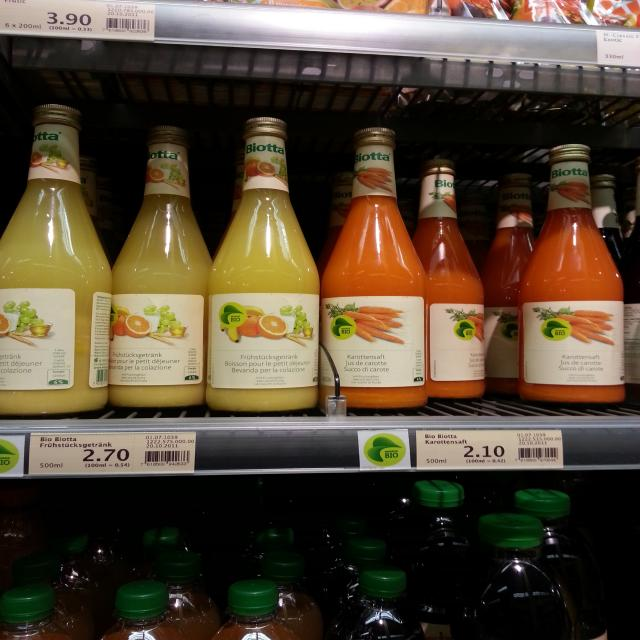Juices: (0, 93, 106, 417), (210, 116, 316, 410), (319, 125, 429, 408), (515, 142, 626, 407), (110, 119, 206, 408), (417, 160, 495, 397)
